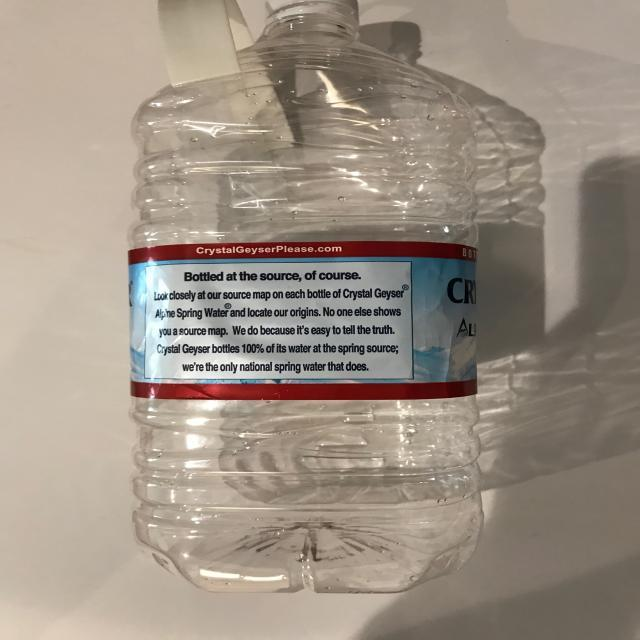plastic: (124, 0, 488, 596)
